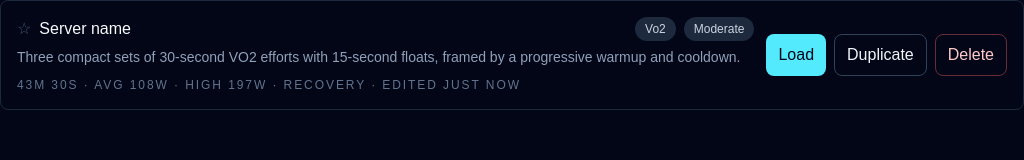
Test: saved workout rename › restores the server name after a failed save
The image size is (1024, 160).
Replace the text in the field named "Rename saved workout" with "New name" at {"x": 333, "y": 29}, box [39, 17, 627, 41]
Then press Enter
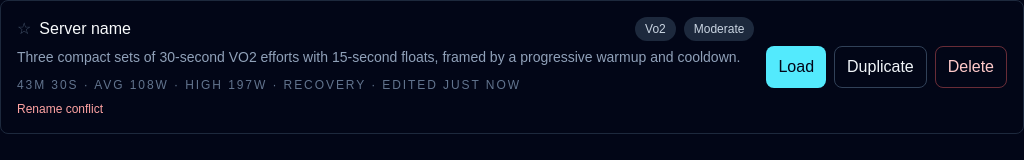
Now the text "Rename conflict" is shown, box [17, 102, 103, 116]
